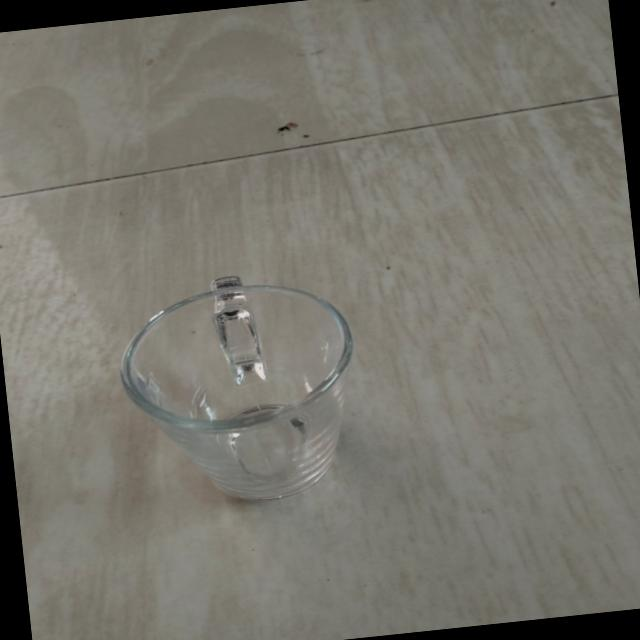glass-VX4N: (111, 263, 370, 521)
